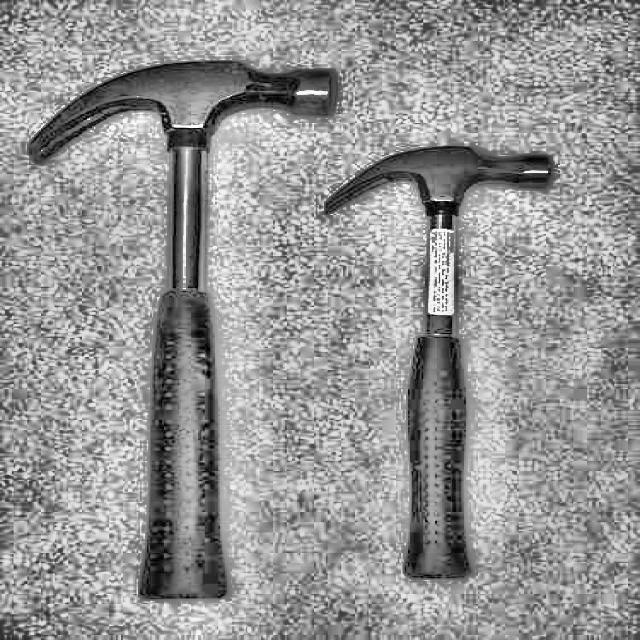hammer: (29, 57, 338, 605), (345, 146, 555, 608)
